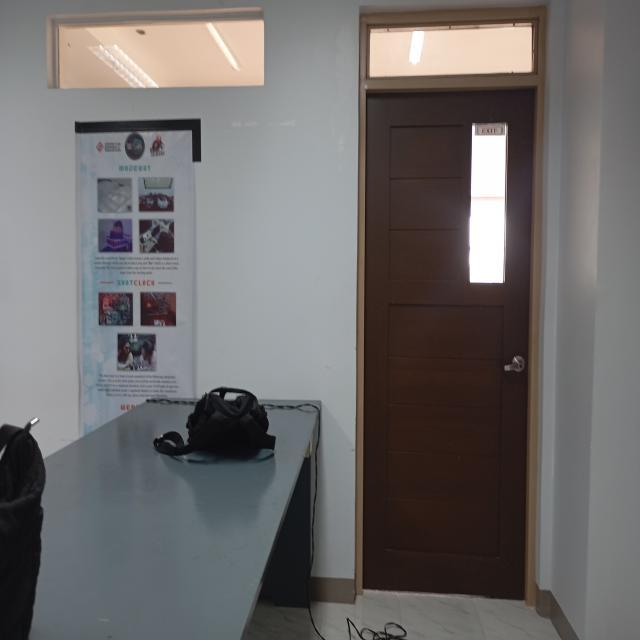door: (354, 2, 552, 621)
